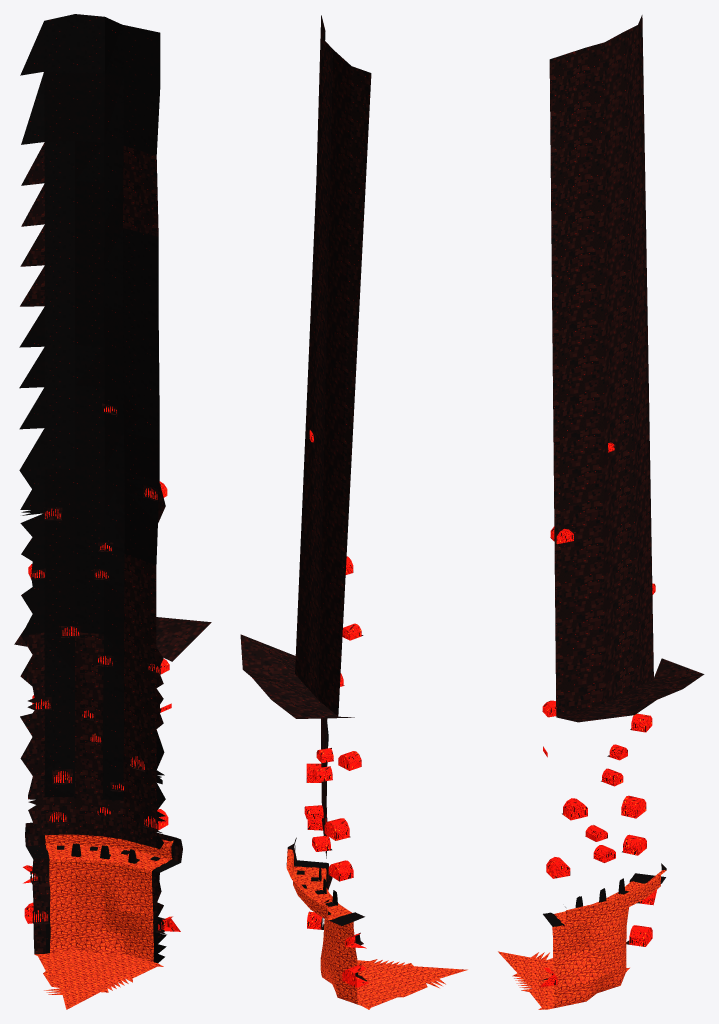
File: map_base_s5.glb
3 views of the same model, side by side, from view 1: azimuth 30°, elevation 25°; view 2: azimuth 150°, elevation 25°; view 3: azimuth 270°, elevation 25° (orthographic). The views are drawn at different scales.
Visible parts, largest first — view 1: MapBaseS5Rock; view 2: MapBaseS5Rock; view 3: MapBaseS5Rock.
Boxes of the visible parts, x1,y1,x2,y2 form: MapBaseS5Rock: (14,14,211,1009); MapBaseS5Rock: (240,15,467,1009); MapBaseS5Rock: (498,15,704,1009).
Size of what is drawn, in the model's own units: 70.85 by 342 by 67.15.
6 materials, 6 textured.
